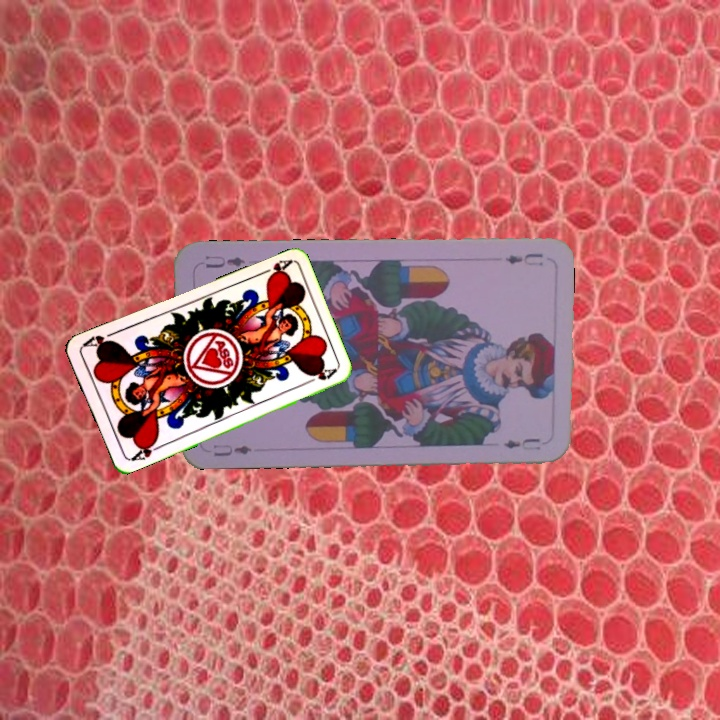EU: (501, 249, 545, 269), (210, 440, 255, 459)
HA: (125, 436, 164, 464), (254, 255, 293, 282)
